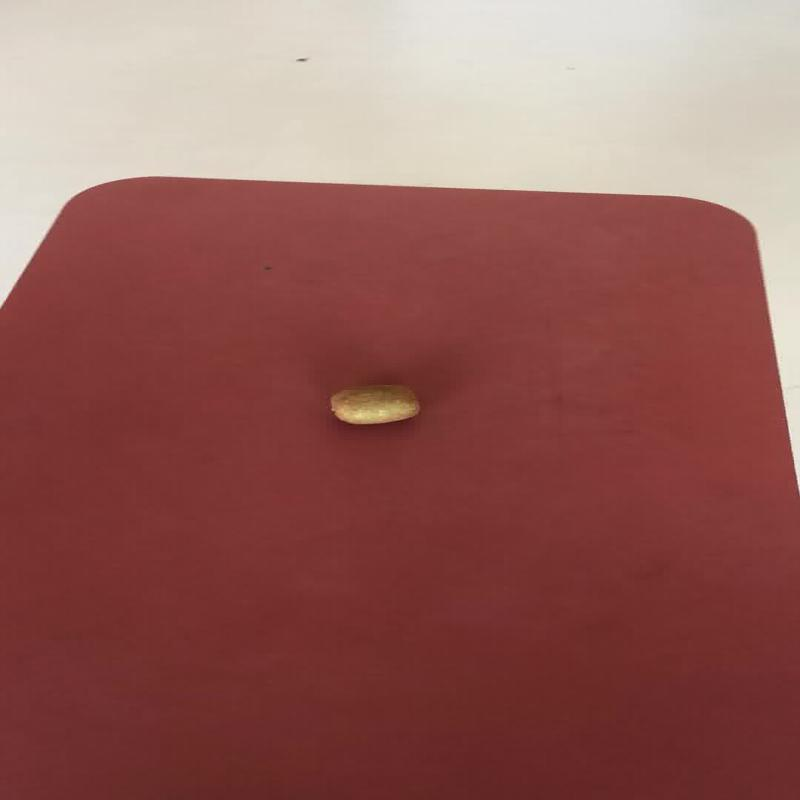kiwi: (328, 384, 420, 424)
